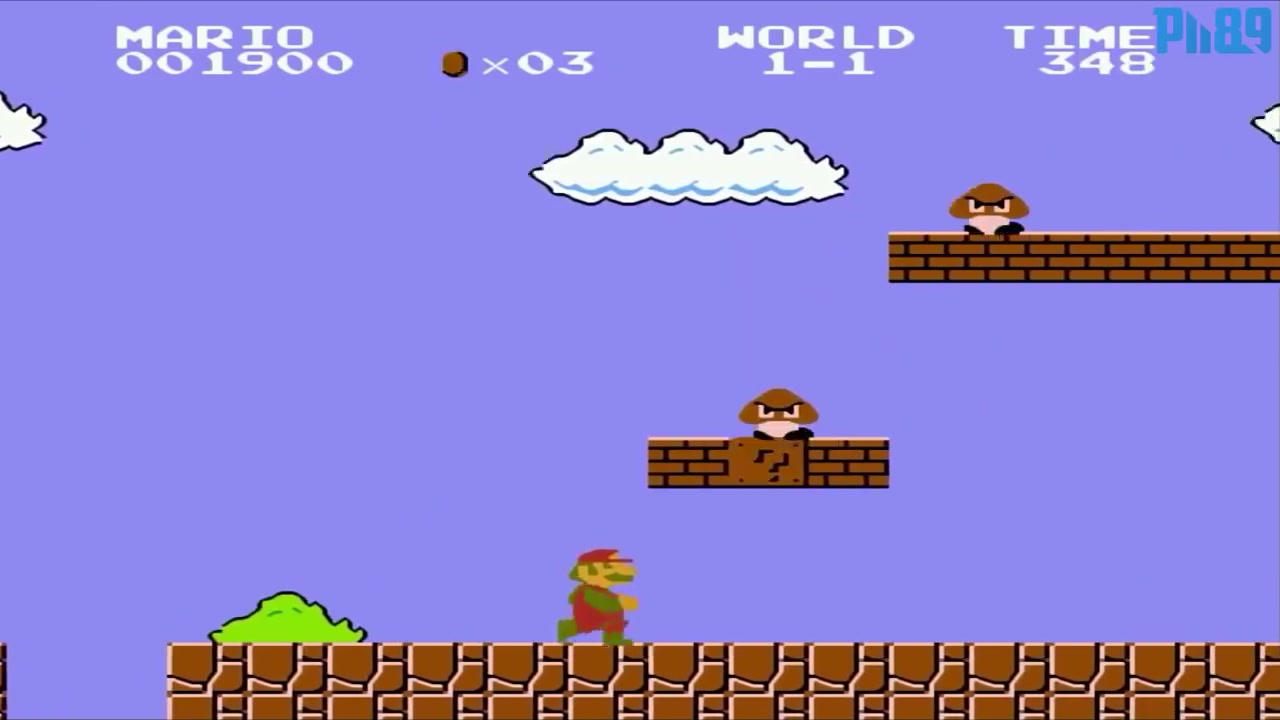mario: (538, 532, 650, 651)
